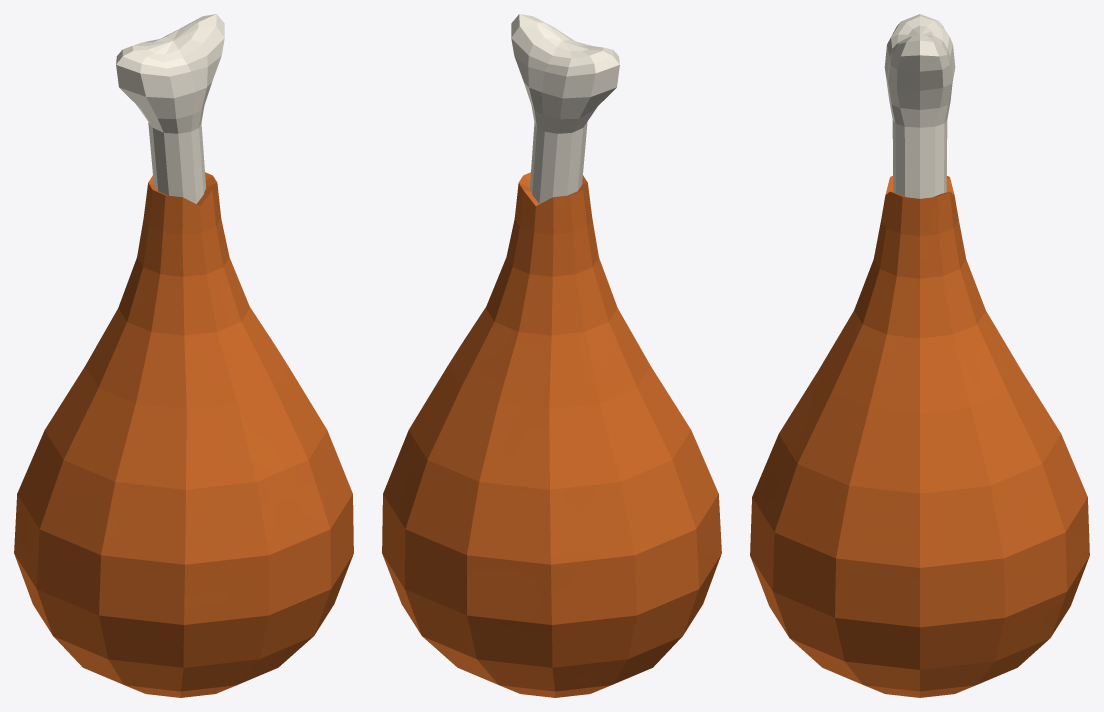
Rendered from SM_Drumstick_01.fbx.
The picture shows the model from 3 angles, left to right: view 1: azimuth 30°, elevation 25°; view 2: azimuth 150°, elevation 25°; view 3: azimuth 270°, elevation 25°; orthographic projection.
Parts seen in each view (by area): view 1: SM_Drumstick_01; view 2: SM_Drumstick_01; view 3: SM_Drumstick_01.
Part boxes in pixels (box(x1,y1,x2,y2)): SM_Drumstick_01: box(14, 14, 353, 697); SM_Drumstick_01: box(382, 14, 721, 697); SM_Drumstick_01: box(750, 14, 1089, 697).
Bounding box in the file's own units: 6.28 × 13.33 × 6.28.
